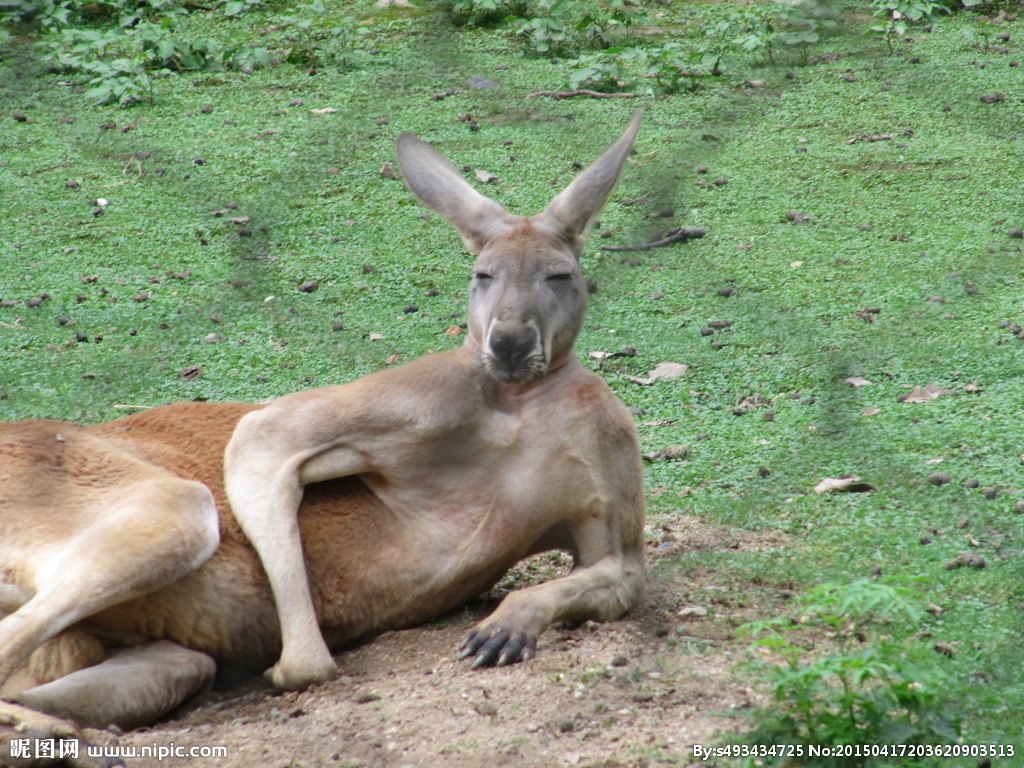kangaroo: (1, 109, 650, 749)
